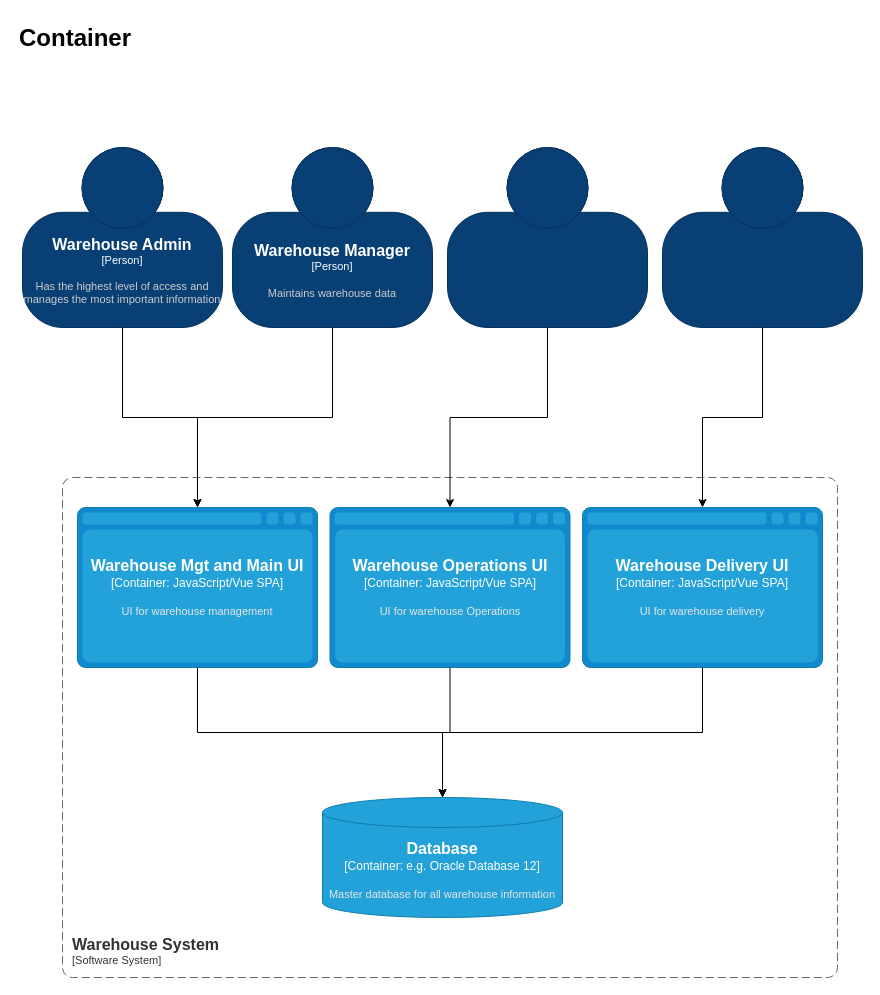
This 880x995 diagram has some shape labels left out. Each missing label, with the centre of its shape:
"Driver [Person] Loads trucks and delivers items to customers" belongs at pixel 762 237.
"Warehouse Worker [Person] receives, puts away, picks, and ships items" belongs at pixel 547 237.
